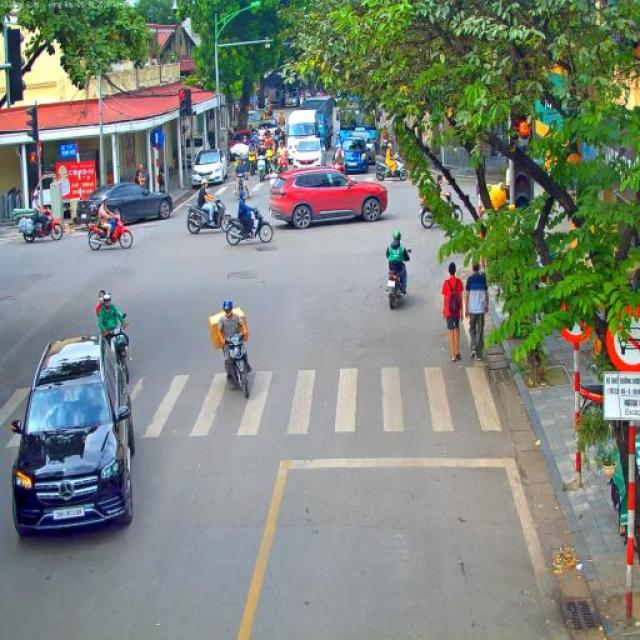car: (10, 334, 136, 538), (267, 166, 388, 230), (76, 182, 173, 226), (192, 148, 228, 188), (288, 134, 327, 170), (338, 134, 368, 174), (352, 126, 377, 164), (258, 119, 282, 147), (228, 142, 250, 166), (229, 129, 252, 147), (285, 91, 299, 107)
motorcycle: (219, 331, 251, 399), (224, 206, 274, 246), (86, 212, 134, 252), (186, 196, 233, 234), (18, 205, 63, 244), (108, 313, 130, 386), (418, 194, 464, 228), (387, 249, 412, 310), (376, 154, 408, 181), (233, 171, 248, 205), (256, 154, 266, 182), (330, 162, 346, 177), (277, 154, 288, 174), (265, 148, 273, 172), (380, 141, 390, 158), (248, 155, 256, 176), (270, 170, 280, 180)
truck: (301, 96, 334, 152), (335, 107, 377, 145), (286, 108, 318, 152), (248, 110, 260, 131)
